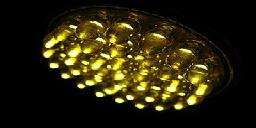LED: (39, 15, 220, 113)
